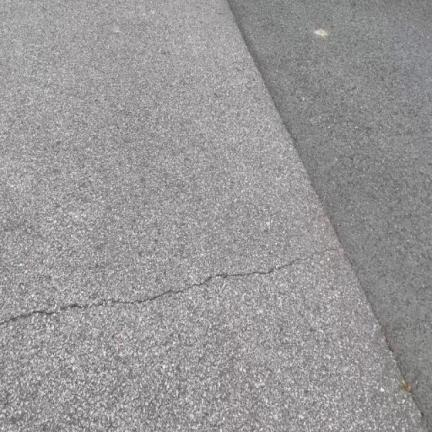Road: (0, 0, 422, 431), (230, 0, 431, 423)
